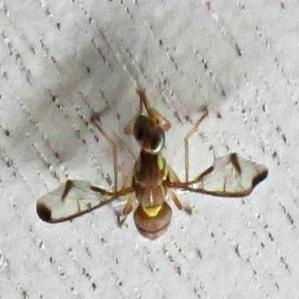melon fly: (43, 79, 276, 259)
